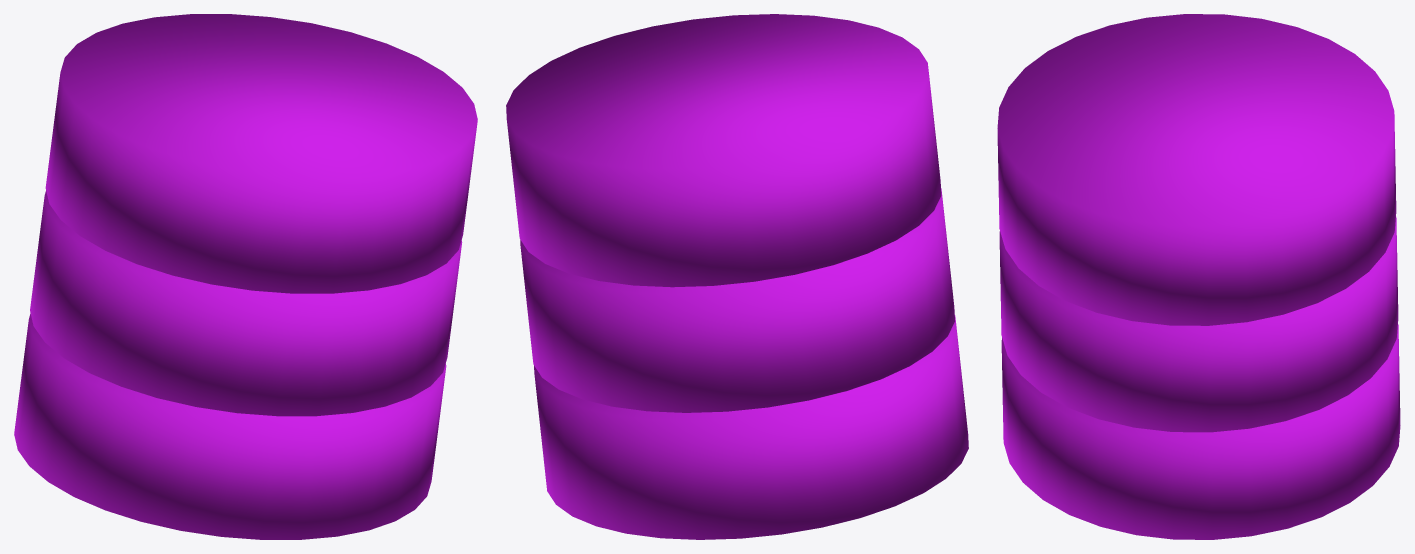
File: BBDD.fbx
3 views of the same model, side by side, from view 1: azimuth 30°, elevation 25°; view 2: azimuth 150°, elevation 25°; view 3: azimuth 270°, elevation 25° (orthographic). The views are drawn at different scales.
Visible parts, largest first — view 1: Cylinder; view 2: Cylinder; view 3: Cylinder.
Boxes of the visible parts, bbox=[...] form: Cylinder: bbox=[14, 14, 477, 539]; Cylinder: bbox=[506, 14, 968, 539]; Cylinder: bbox=[997, 14, 1400, 539].
Size of the model in its own units: 554 by 528 by 507.
